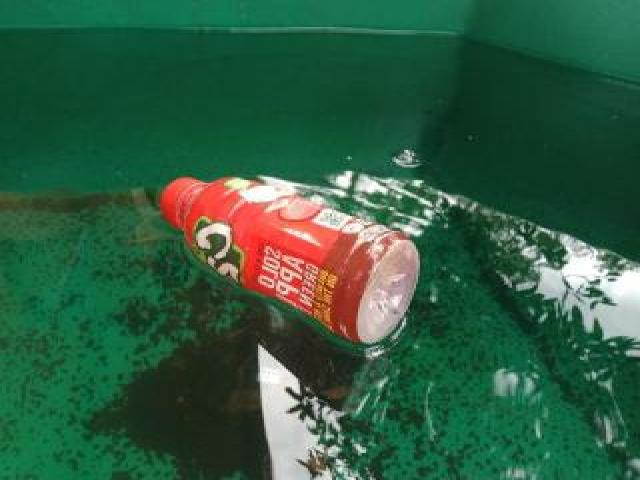Bottle: (150, 168, 432, 350)
